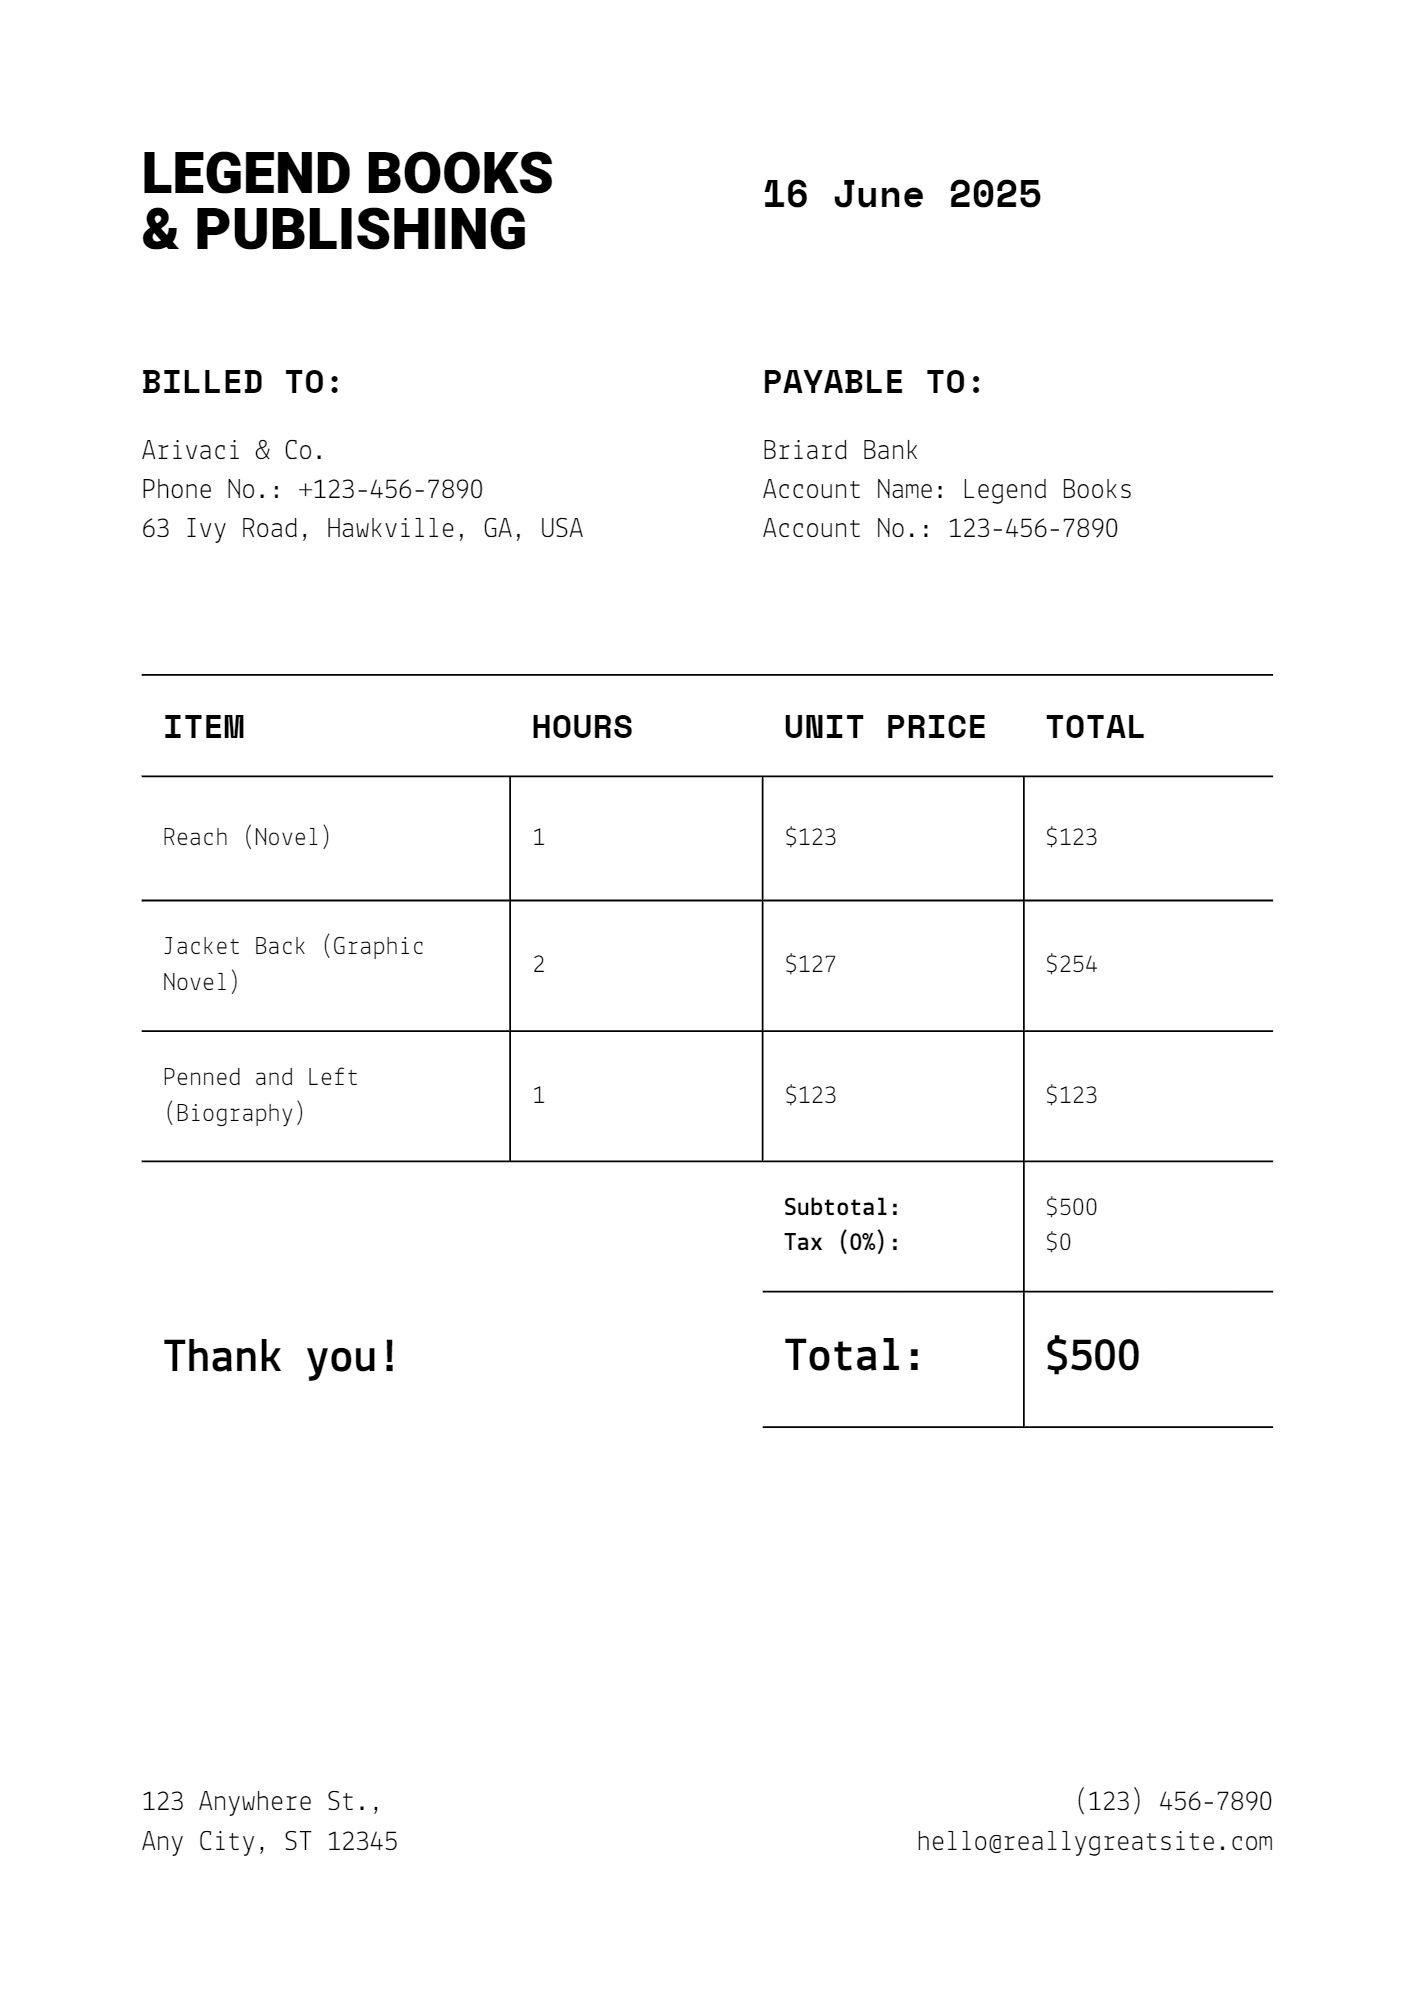ROI: (138, 658, 1267, 1169)
